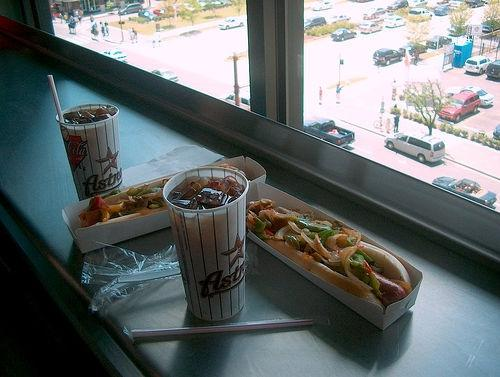onion: (340, 245, 374, 290), (300, 231, 326, 257), (314, 233, 332, 259), (324, 233, 349, 250), (286, 219, 310, 235), (342, 228, 362, 246), (258, 210, 276, 230), (271, 209, 300, 221), (100, 202, 126, 214), (274, 225, 293, 240), (141, 188, 163, 200), (312, 220, 332, 227), (128, 196, 136, 202)
